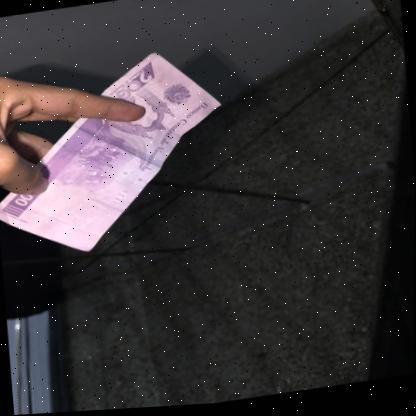one_hundred-back-vef: (0, 44, 234, 265)
